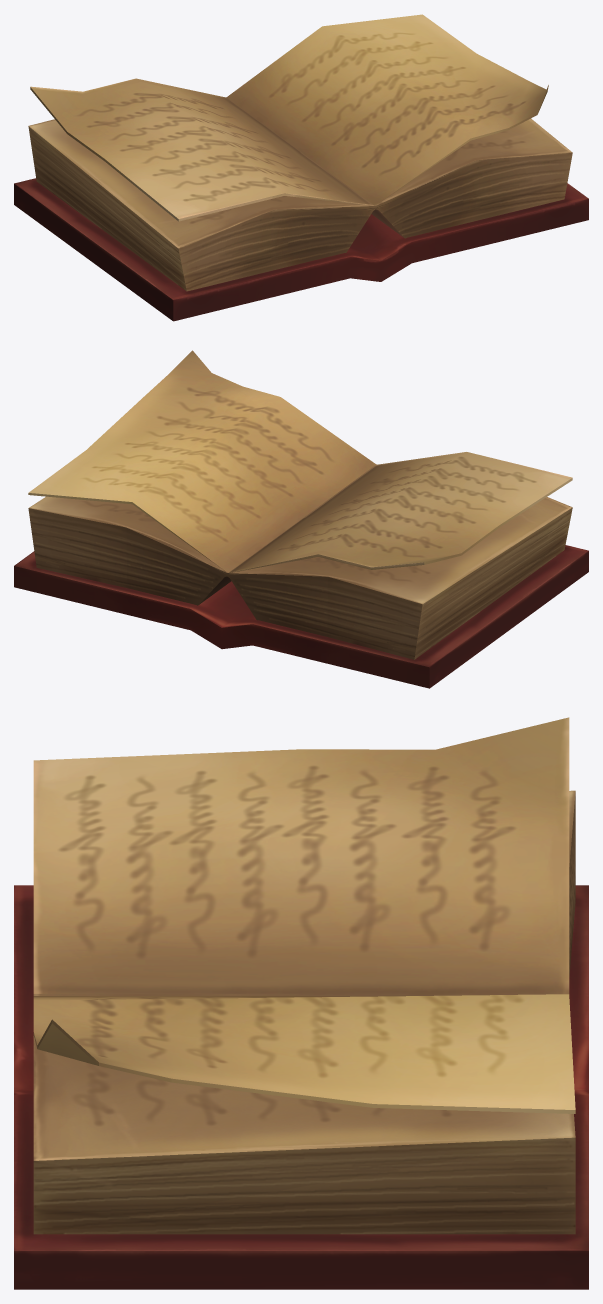
Rendered from book2.FBX.
3 renders of one model, top to bottom at view 1: azimuth 30°, elevation 25°; view 2: azimuth 150°, elevation 25°; view 3: azimuth 270°, elevation 25°, orthographic. The views are drawn at different scales.
Parts seen in each view (by area): view 1: book2; view 2: book2; view 3: book2.
Boxes of the visible parts, x1,y1,x2,y2 form: book2: (14,14,588,321); book2: (14,350,588,688); book2: (14,717,588,1289).
Bounding box in the file's own units: 46.52 × 15.68 × 30.9.
